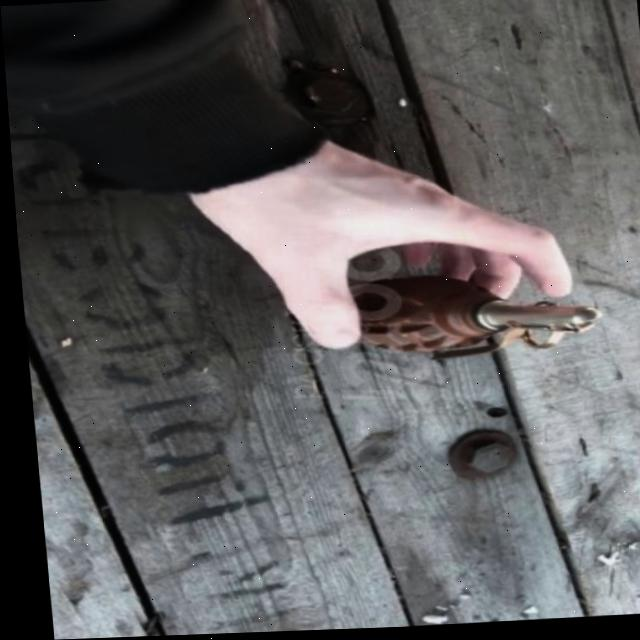grenade: (313, 261, 598, 379)
